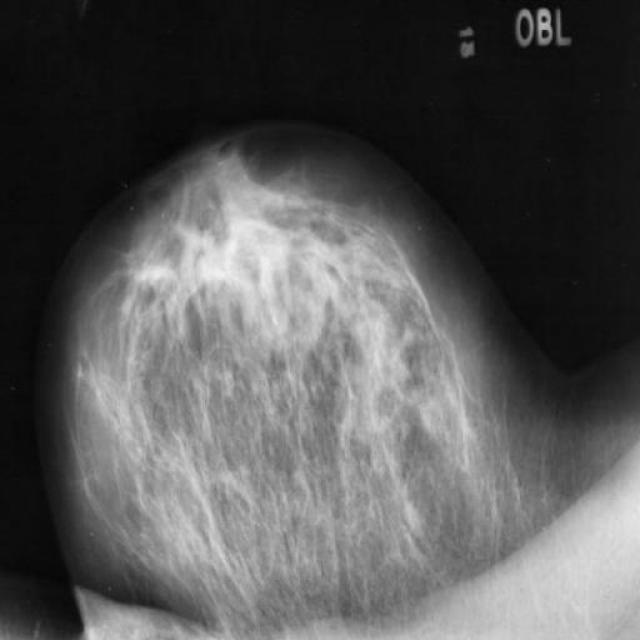cancer: (344, 266, 394, 349)
